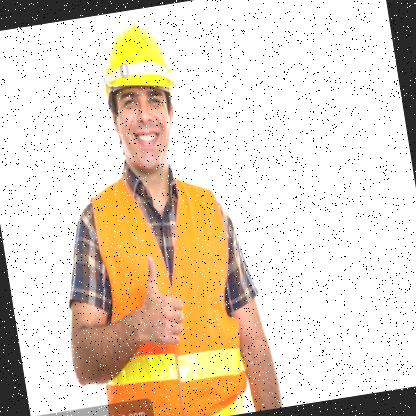capacete: (91, 16, 191, 178)
colete_refletivo: (43, 156, 278, 415)
